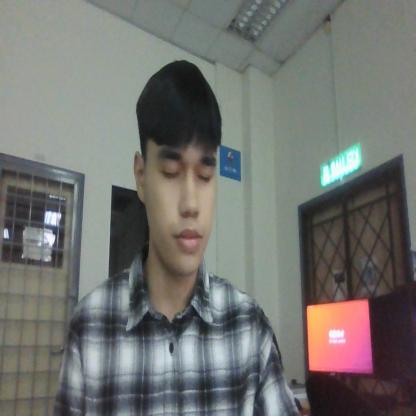Closed-Eyes: (149, 142, 221, 198)
